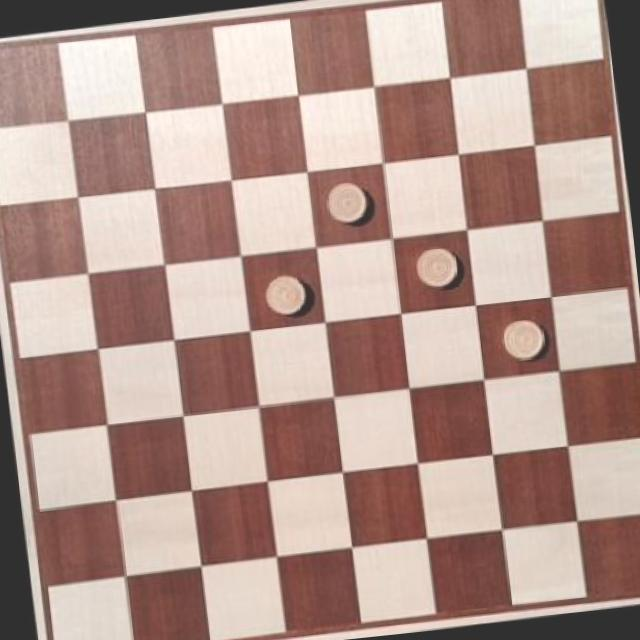BOARD: (0, 0, 640, 640)
white: (320, 172, 376, 226), (412, 242, 461, 292), (498, 314, 546, 363), (262, 268, 308, 318)
